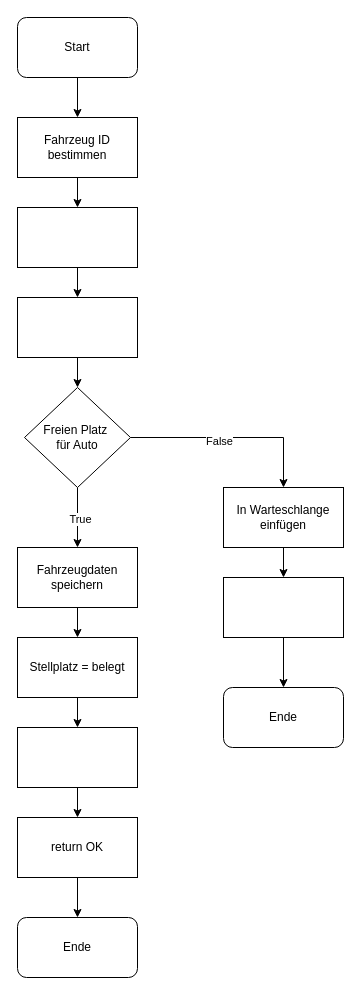
The diagram is 361 pixels wide and 995 high, and some of its shapes have lost their labels. Each missing label, with the centre of its shape:
belegte Plätze ++: point (77, 757)
Freien Stellplatz suchen: point (77, 327)
return KFZ_WARTEN: point (283, 607)
Zufällige Parkdauer zuweisen: point (77, 237)
